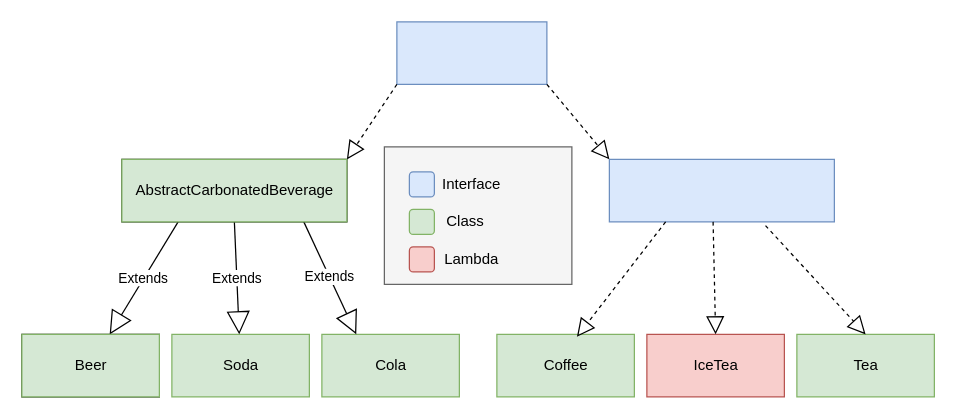
Some shapes in this 956 by 419 pixel diagram are drawn without their labels. Each missing label, with the box of its shape:
«interface» Beverage: (396, 21, 547, 84)
«interface» HotBeverage: (608, 158, 834, 222)
